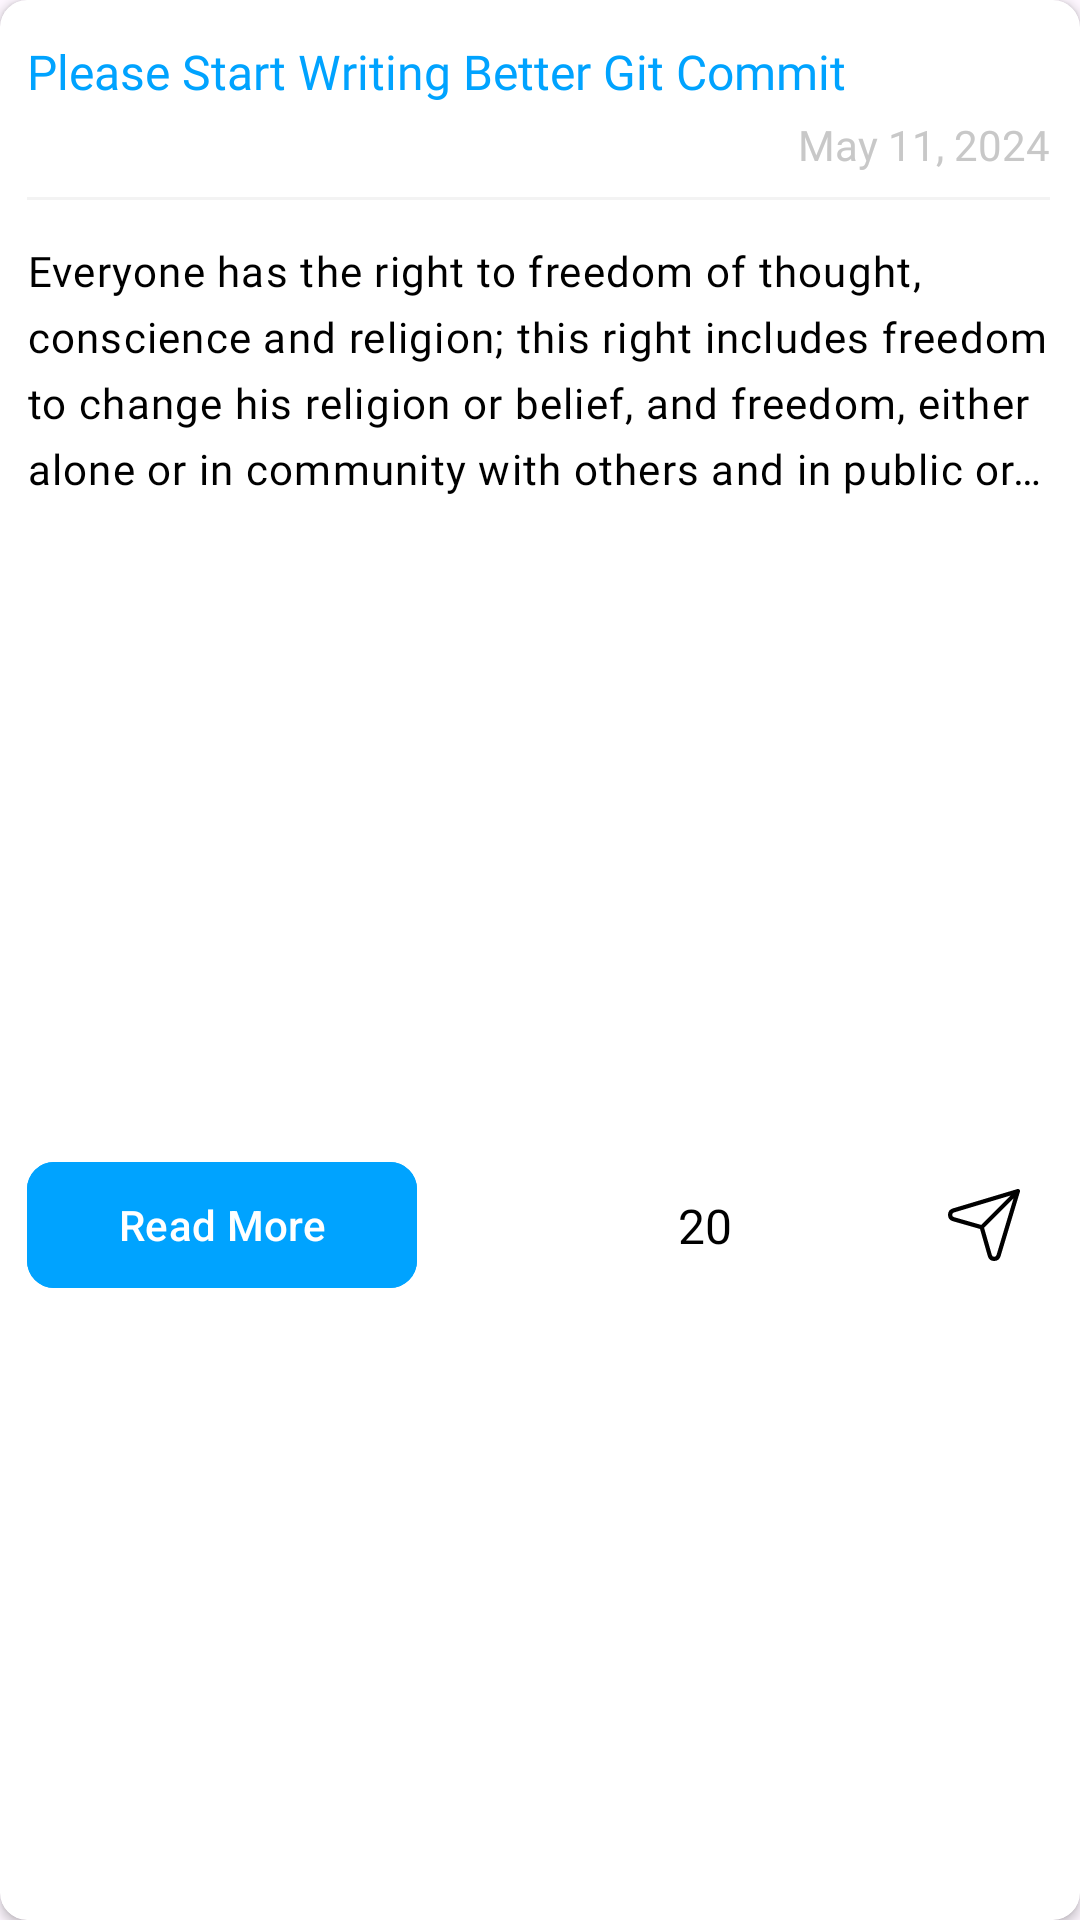

Point at icon controls on the screen. Image size 1080px×1920px, points as [x,y].
Share: [984,1225]
